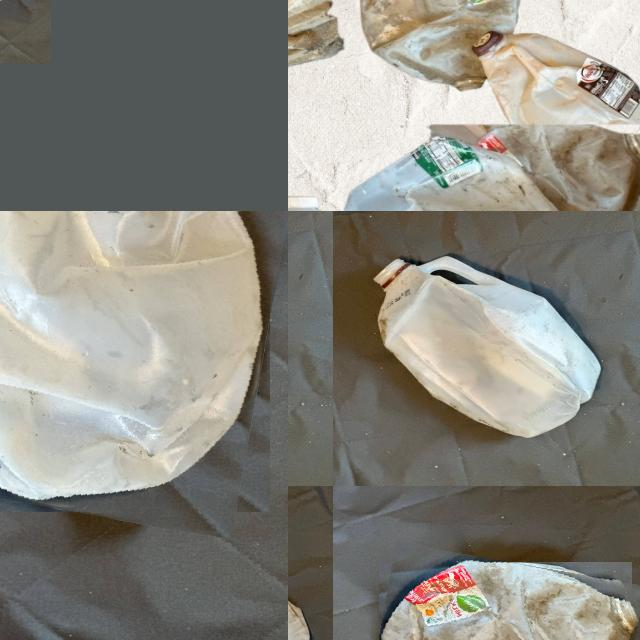milk-jug: (0, 211, 287, 526), (372, 256, 602, 438), (371, 551, 638, 640), (465, 25, 640, 141), (470, 122, 640, 211), (359, 0, 521, 90), (331, 157, 556, 211), (288, 0, 345, 83)
